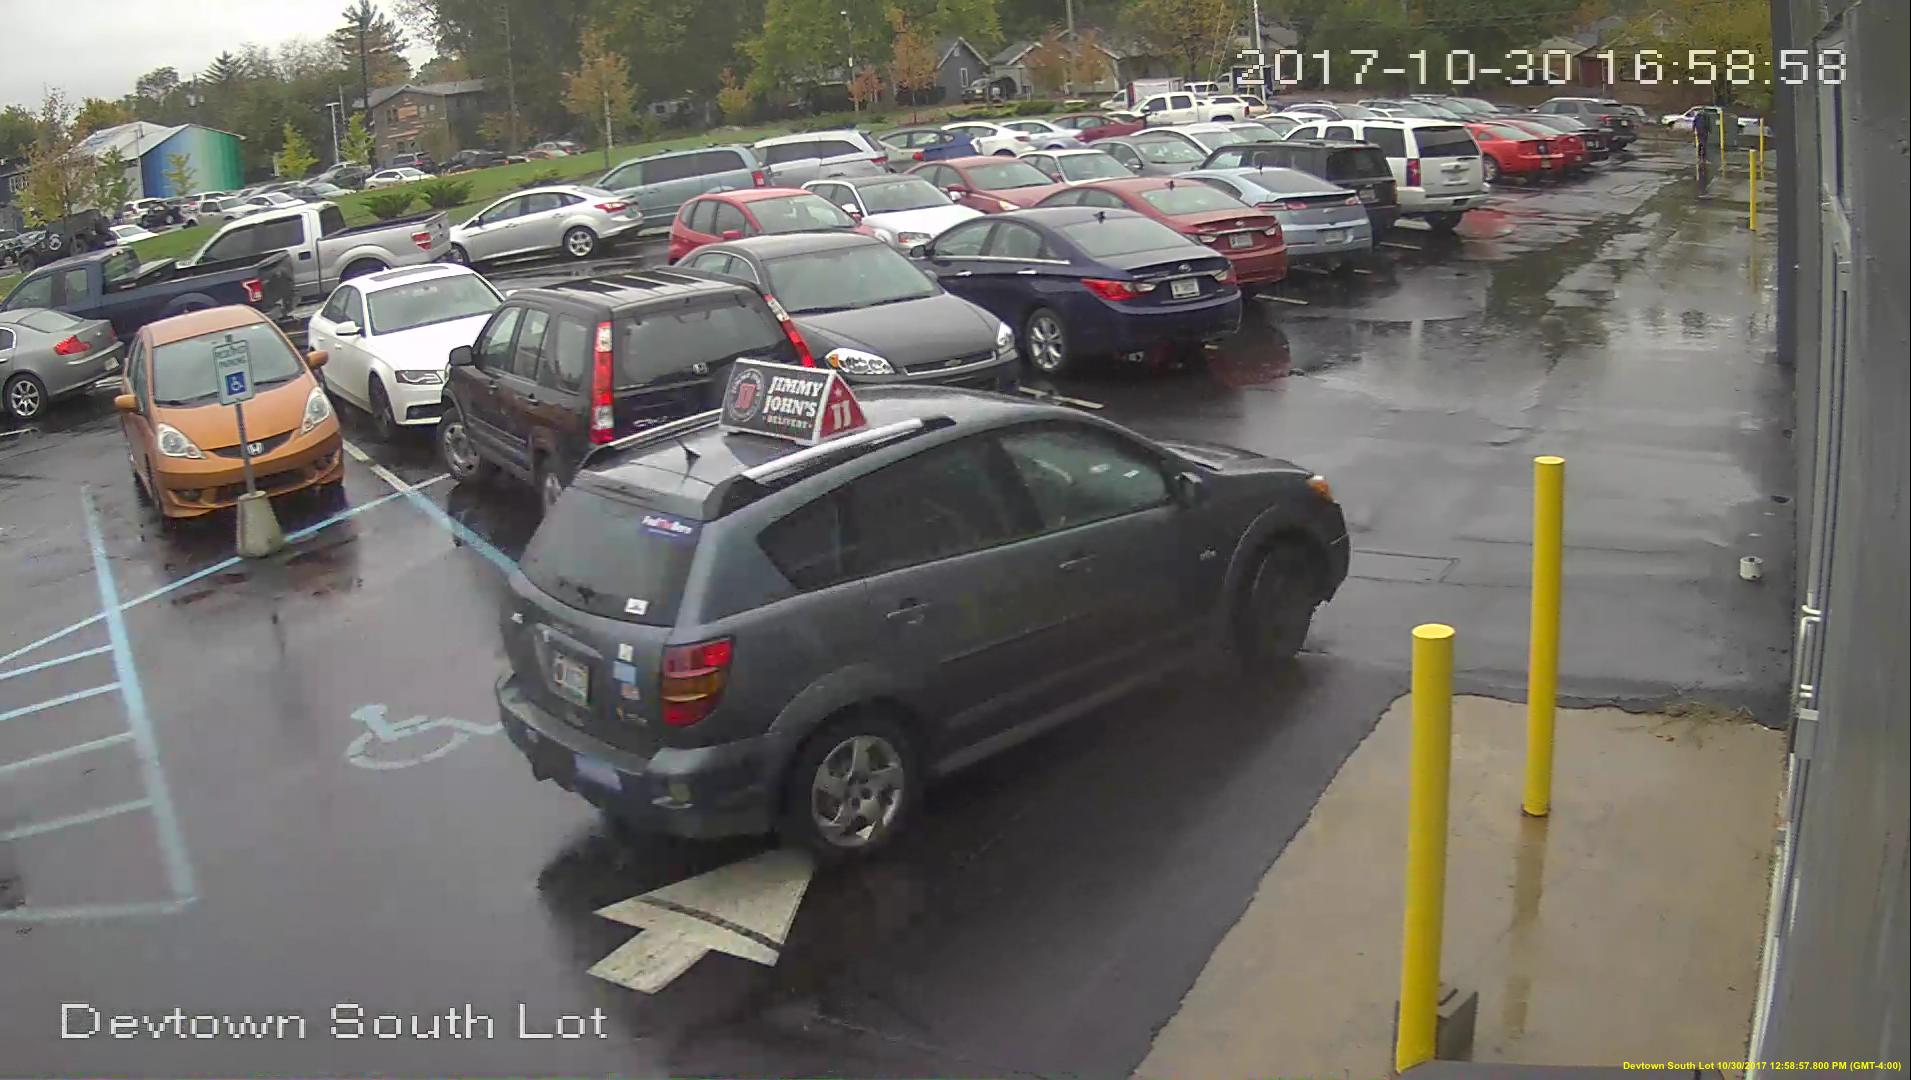jimmy_johns: (717, 356, 871, 449)
